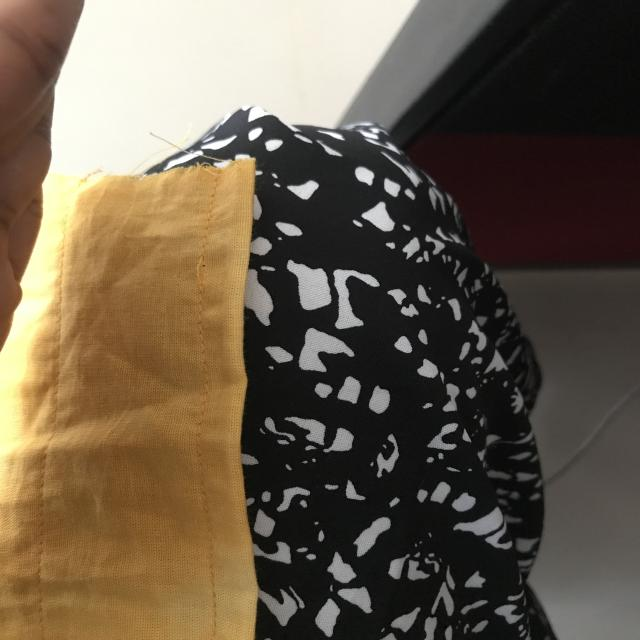skip: (189, 248, 218, 299)
